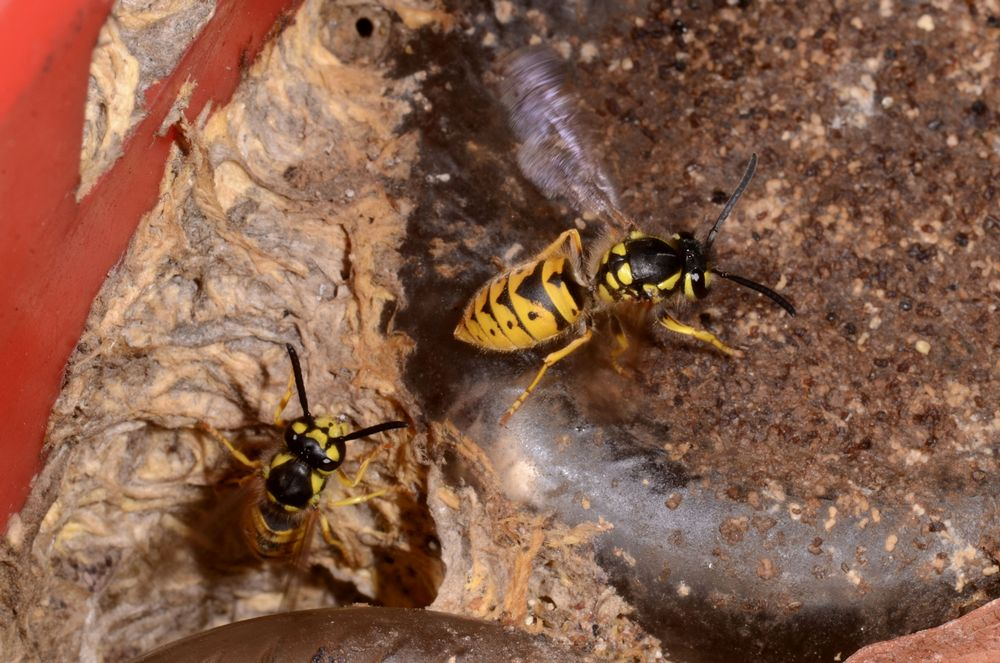chax: (428, 128, 798, 425), (175, 363, 435, 589)
